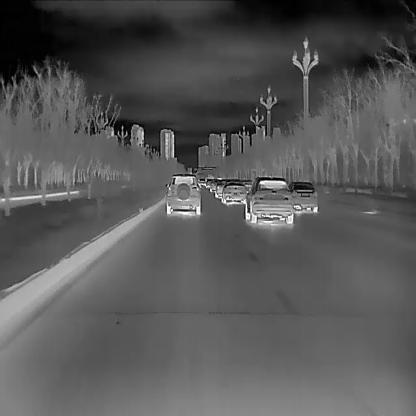car: (244, 174, 292, 224), (164, 172, 201, 214), (286, 180, 318, 212), (219, 178, 245, 203), (214, 178, 226, 196), (209, 177, 220, 192), (242, 178, 251, 192), (204, 177, 212, 188), (199, 177, 205, 186)
